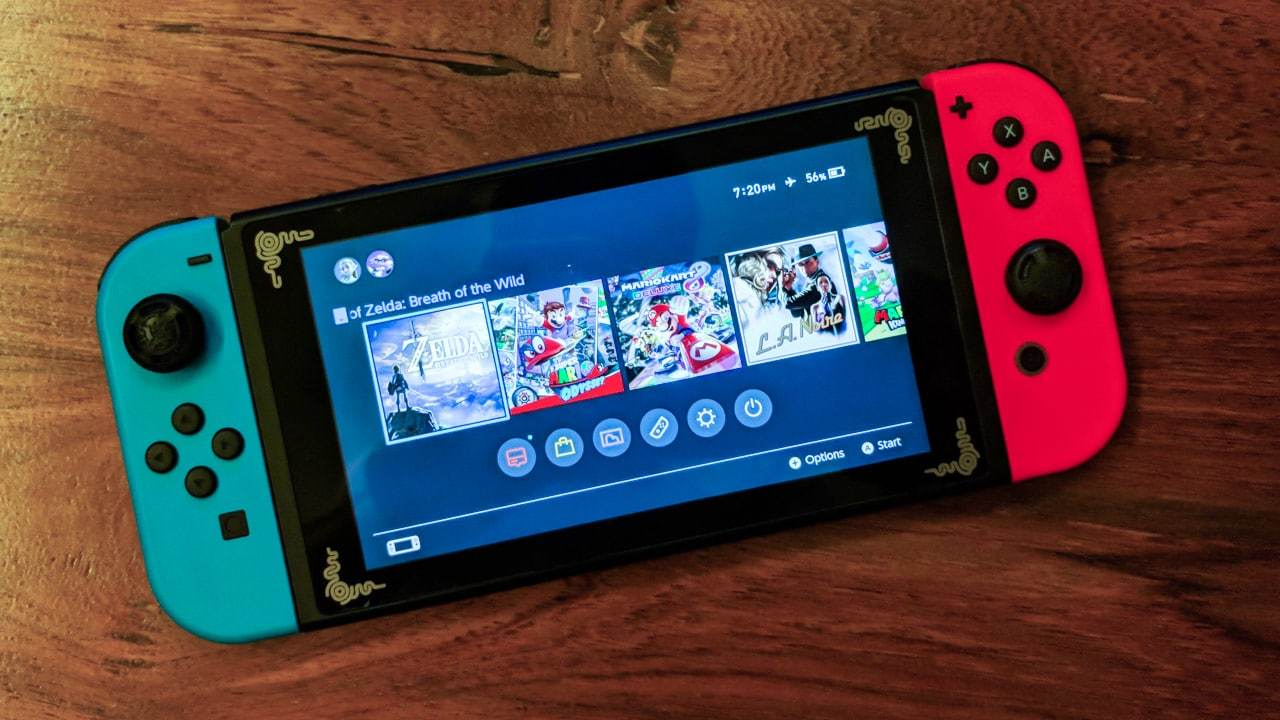NintendoSwitch: (86, 55, 1143, 655)
